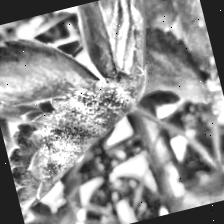Powdery Mildew Leaf: (0, 65, 175, 210)
